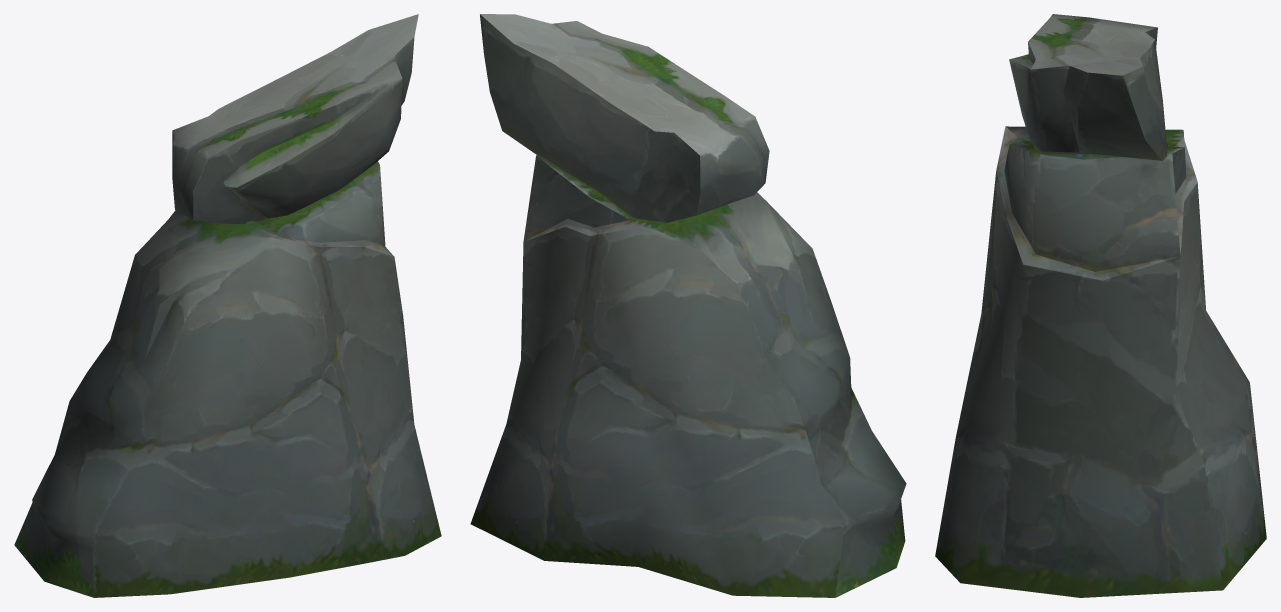
Rendered from scene_malujiakuangdao_shan02.FBX.
3 views of the same model, side by side, from view 1: azimuth 30°, elevation 25°; view 2: azimuth 150°, elevation 25°; view 3: azimuth 270°, elevation 25° (orthographic). The views are drawn at different scales.
Visible parts, largest first — view 1: scene_malujiakuangdao_shan02; view 2: scene_malujiakuangdao_shan02; view 3: scene_malujiakuangdao_shan02.
Part boxes in pixels (bbox=[...]): scene_malujiakuangdao_shan02: bbox=[14, 14, 441, 597]; scene_malujiakuangdao_shan02: bbox=[470, 14, 906, 597]; scene_malujiakuangdao_shan02: bbox=[935, 14, 1266, 597].
Size of the model in its own units: 1060 by 1189 by 669.
